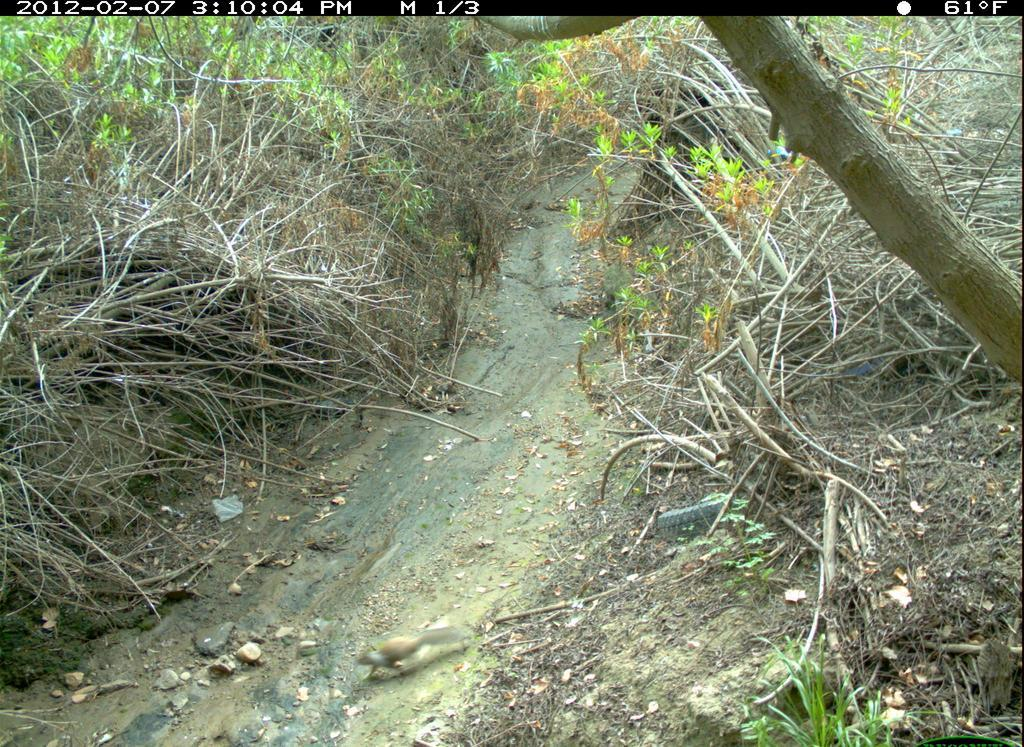squirrel: (353, 617, 479, 687)
